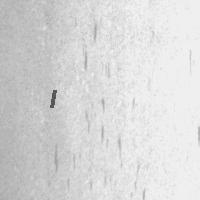inclusion: (74, 94, 133, 187), (49, 88, 56, 109)
